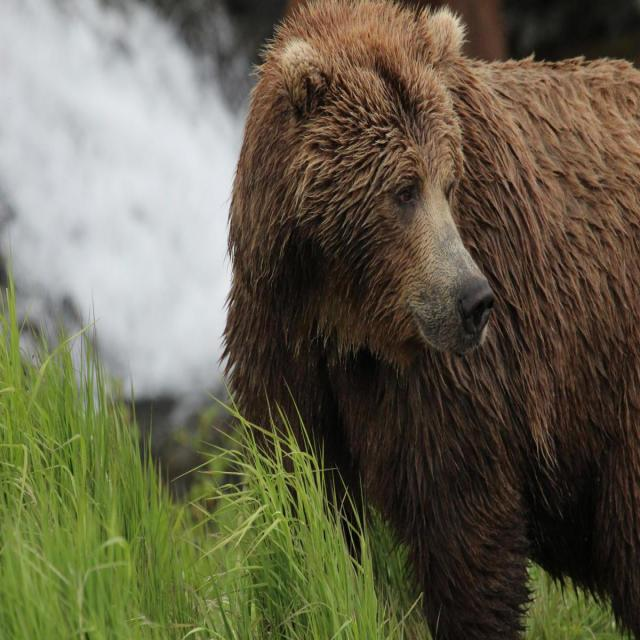Bear: (219, 0, 640, 640)
